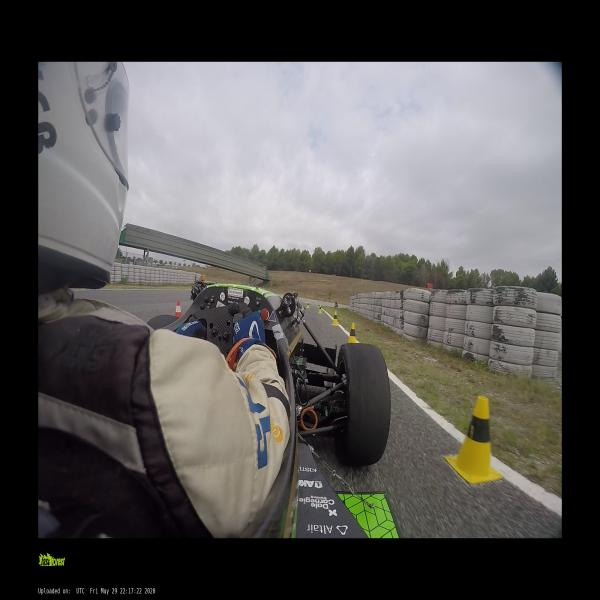orange_cone: (176, 302, 182, 318)
yellow_cone: (445, 394, 502, 482), (348, 322, 356, 343), (332, 311, 338, 326), (318, 306, 322, 314), (306, 302, 309, 309)
